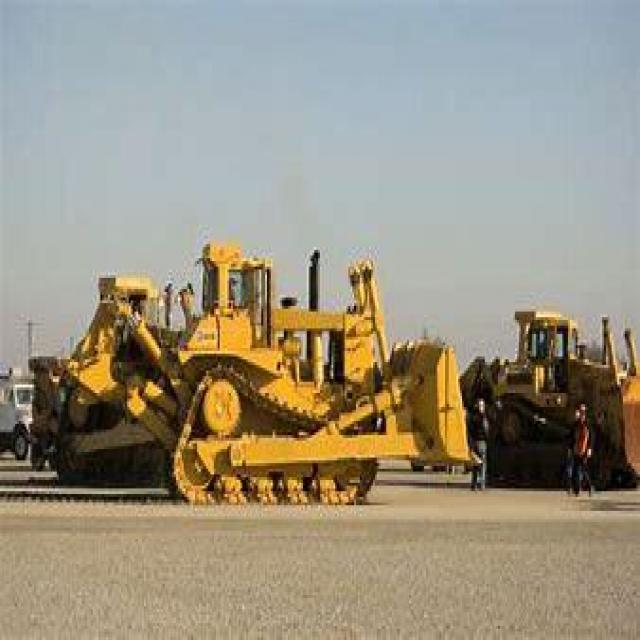Bulldozer: (66, 227, 479, 525)
